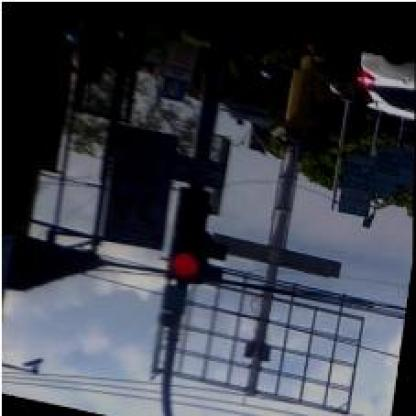red: (165, 178, 213, 280)
